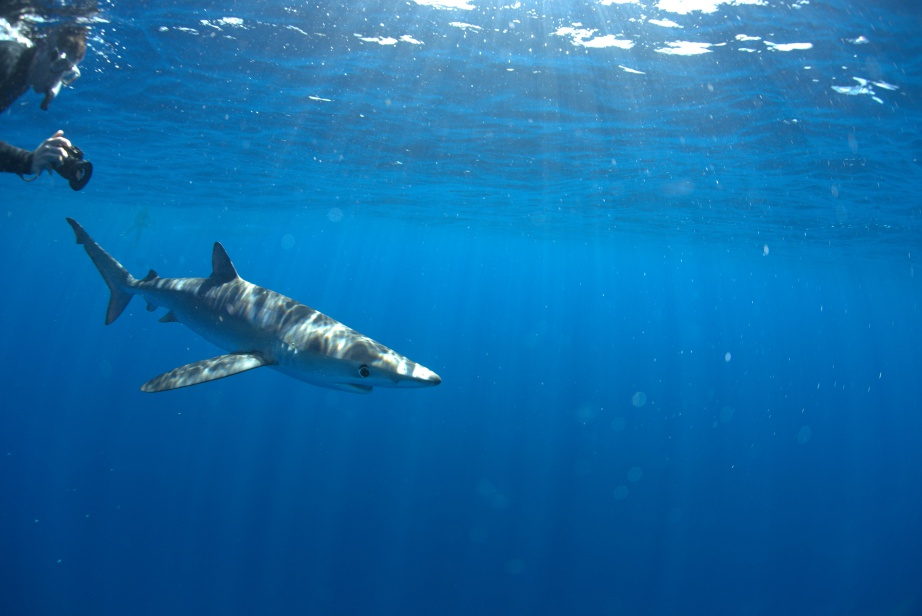Azul: (49, 201, 438, 412)
